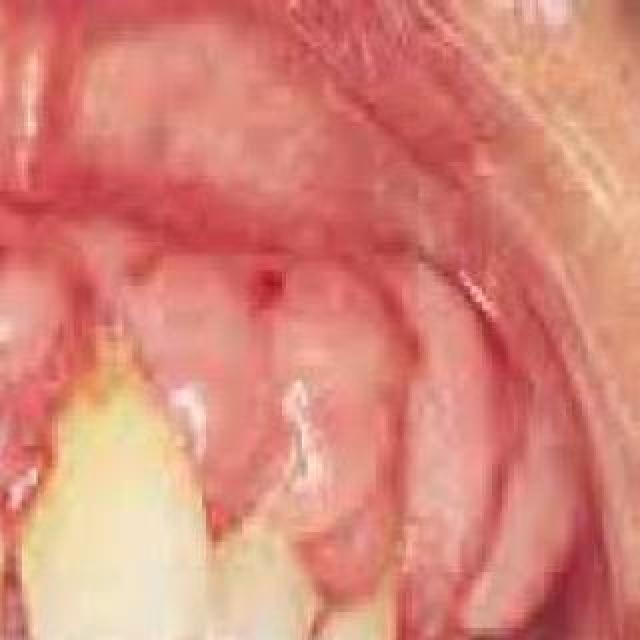plaque: (186, 497, 422, 611), (34, 344, 206, 494)
spacing: (0, 516, 78, 640)
